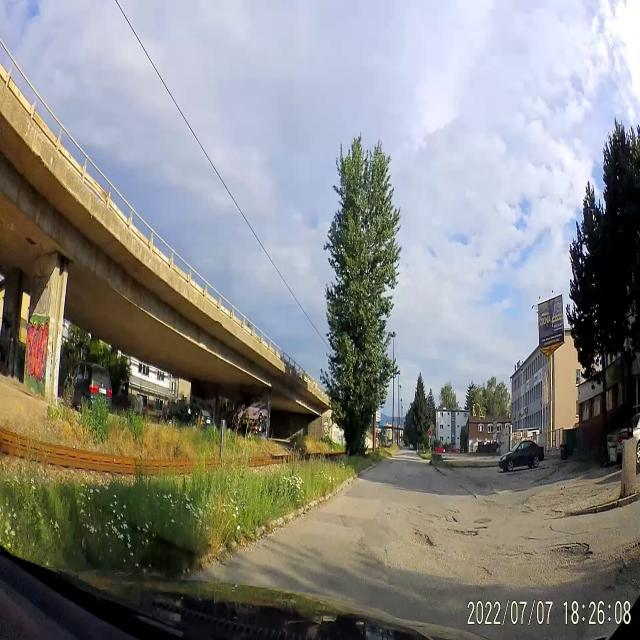Manhole: (472, 514, 493, 528)
Pothole: (548, 530, 594, 572), (409, 525, 437, 552), (447, 525, 480, 543), (496, 547, 534, 561), (437, 511, 460, 524), (520, 502, 534, 518), (477, 566, 492, 580)
